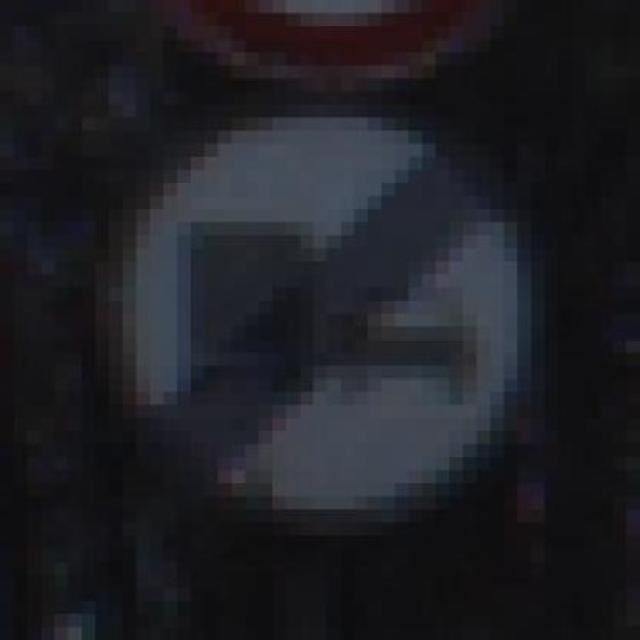Overtaking by trucks is prohibited: (81, 92, 558, 536)
